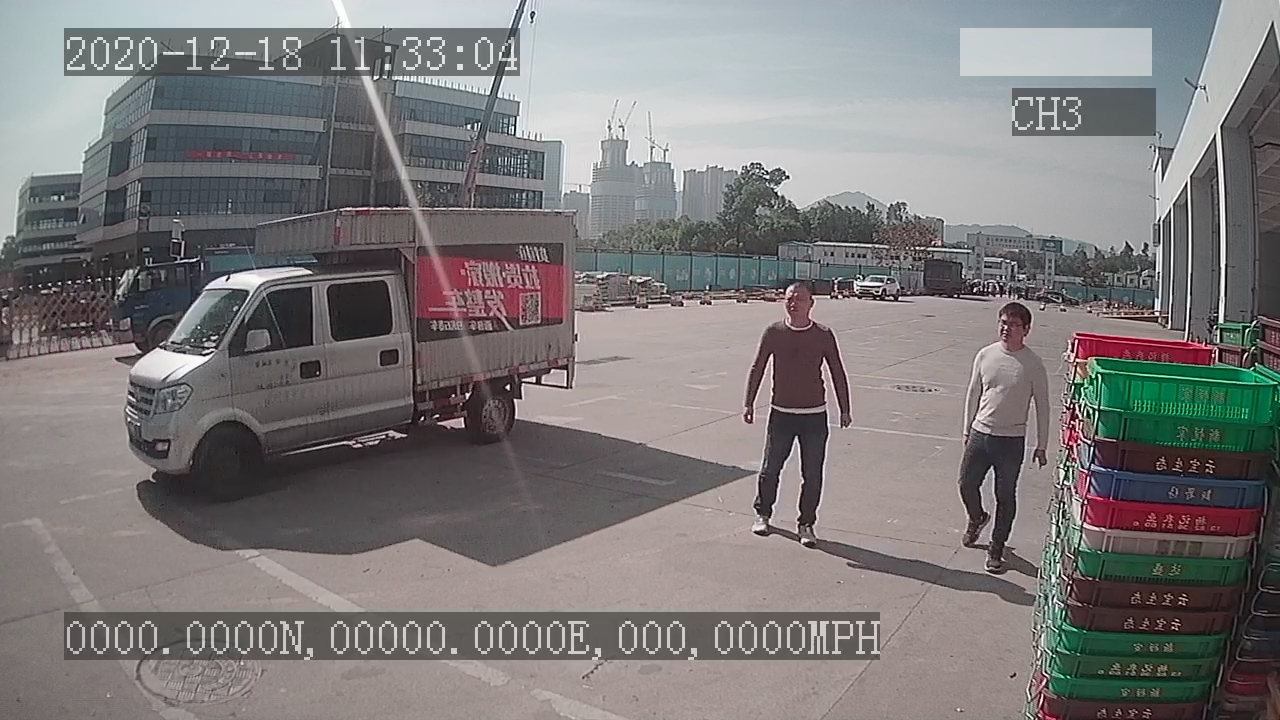person: (743, 275, 852, 551)
